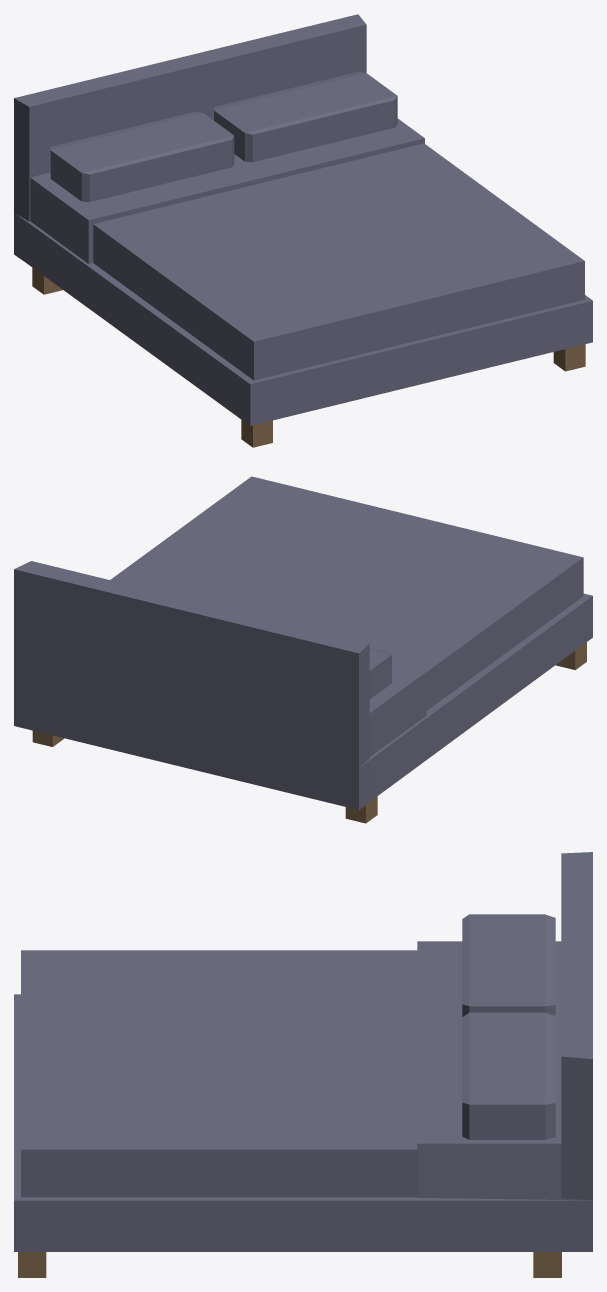
The model's file is Bed.fbx.
3 renders of one model, top to bottom at view 1: azimuth 30°, elevation 25°; view 2: azimuth 150°, elevation 25°; view 3: azimuth 270°, elevation 25°, orthographic. The views are drawn at different scales.
Visible parts, largest first — view 1: Bed; view 2: Bed; view 3: Bed.
Boxes of the visible parts, x1,y1,x2,y2 form: Bed: [14, 14, 592, 447]; Bed: [14, 476, 592, 823]; Bed: [14, 852, 592, 1277].
Size of the model in its own units: 2.83 by 1.42 by 3.34.
